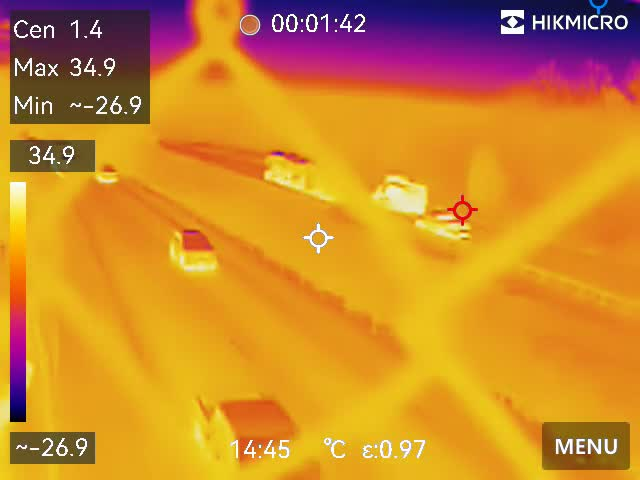heavyTruck: (263, 147, 427, 207)
lightTruck: (189, 381, 323, 480)
vehicle: (167, 227, 215, 279), (418, 206, 472, 240), (94, 156, 124, 183)
